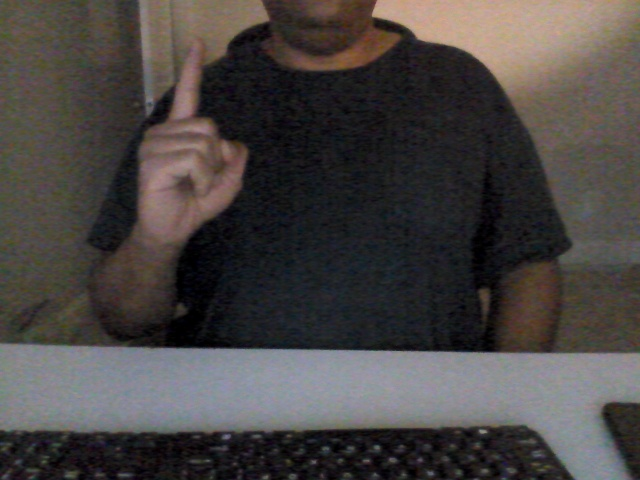up: (132, 35, 250, 245)
